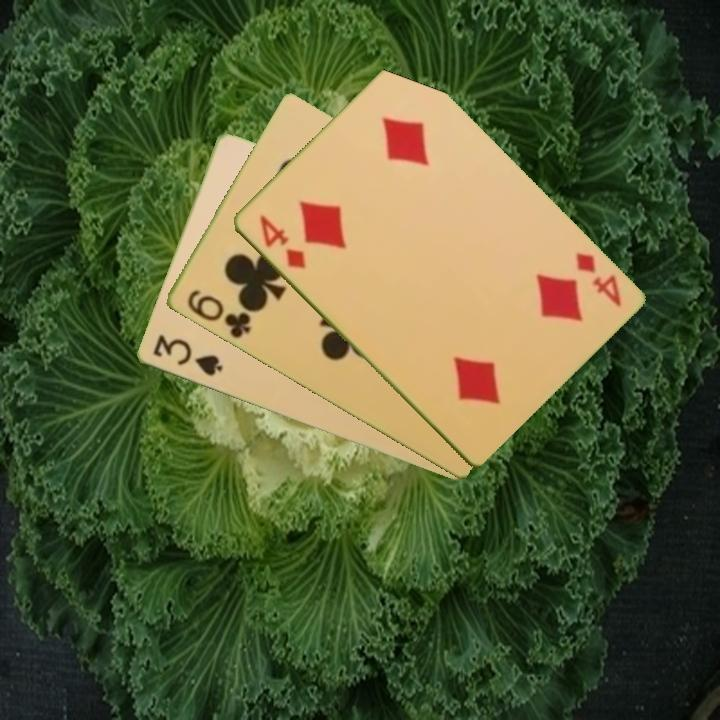3s: (149, 331, 225, 380)
4d: (255, 211, 308, 273), (571, 248, 624, 310)
6c: (183, 286, 253, 342)
